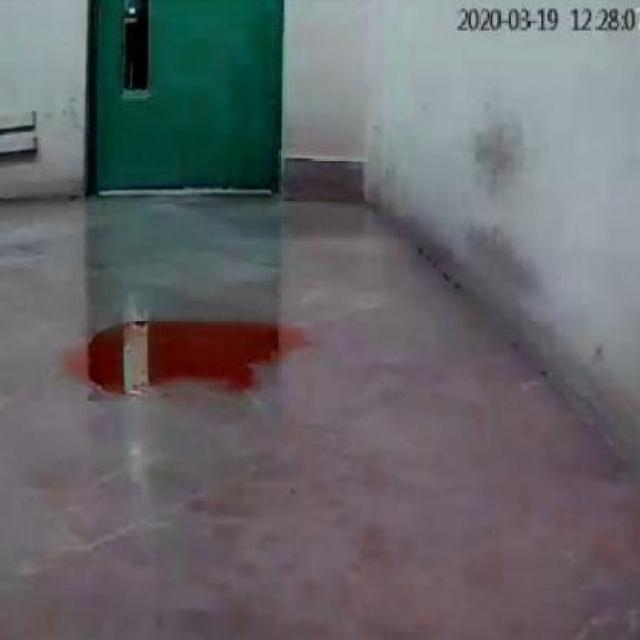spillage: (88, 320, 313, 396)
